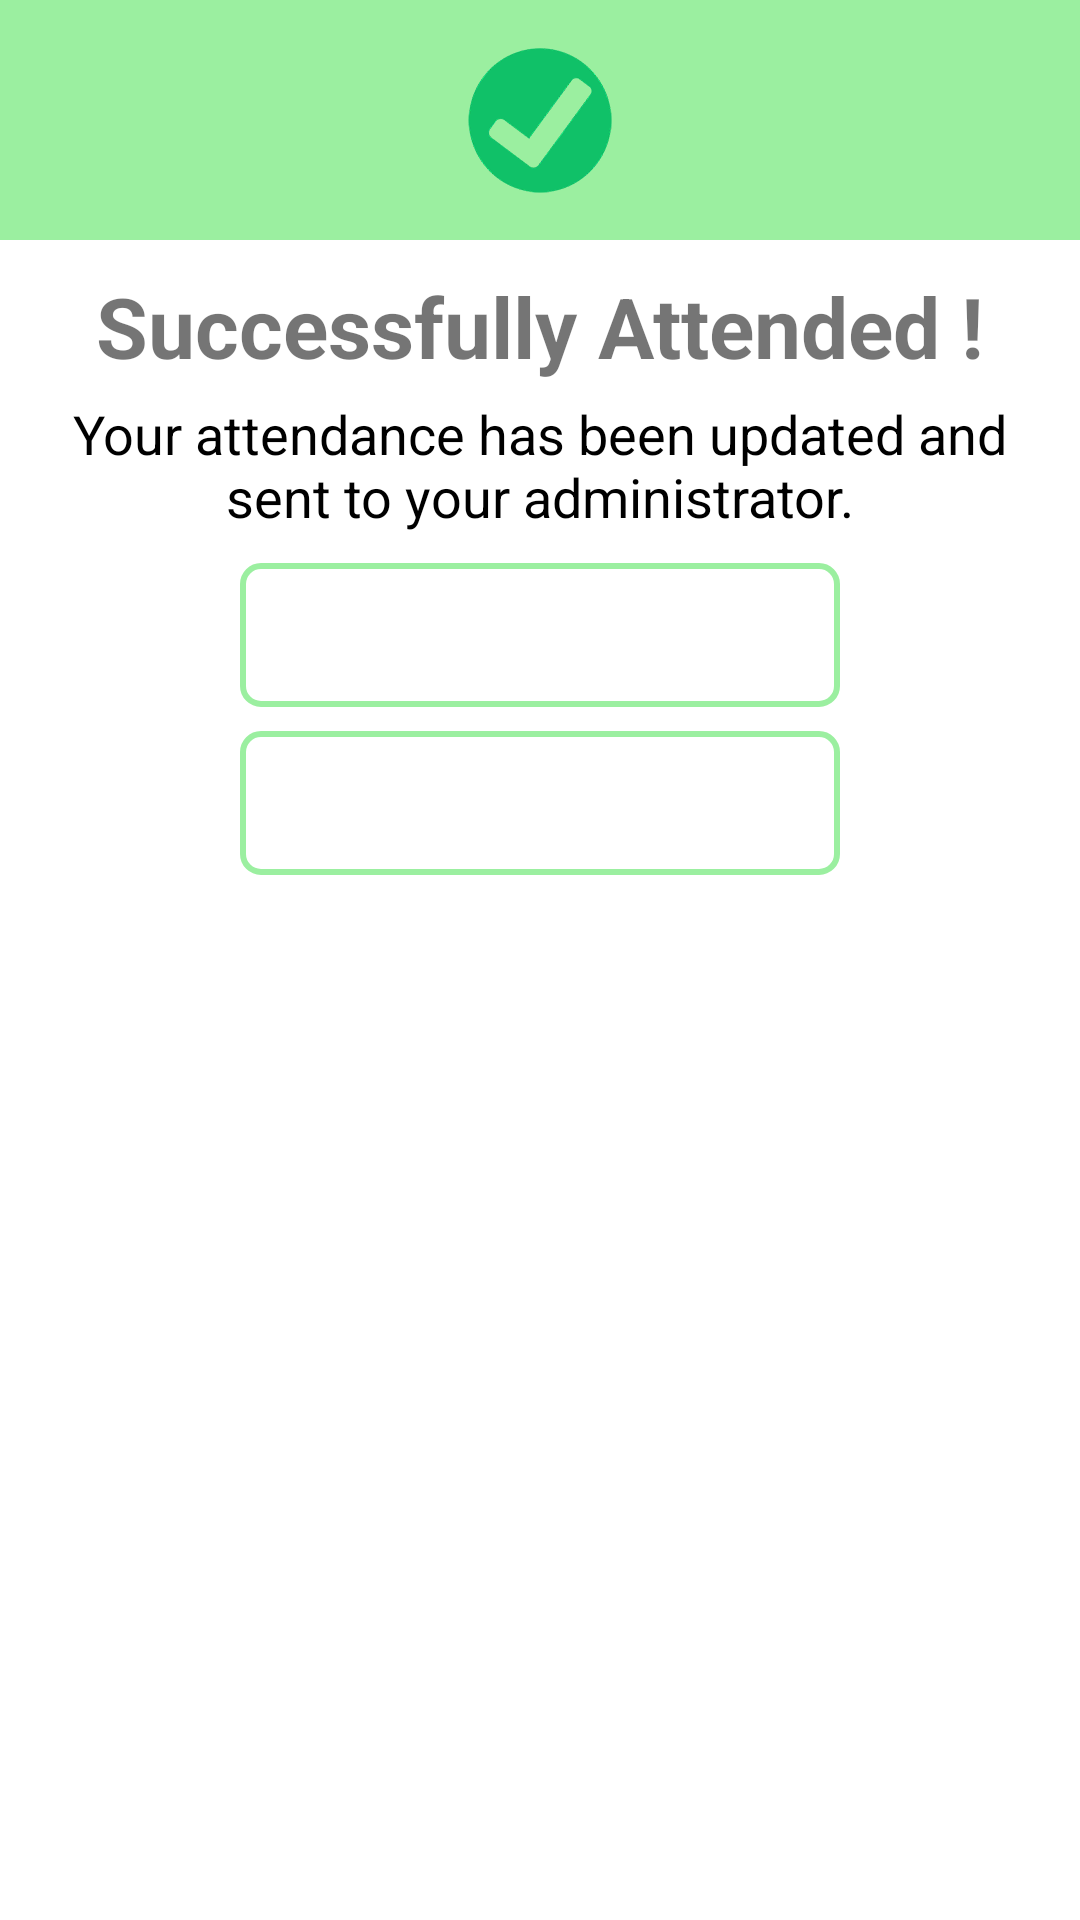

Screen size 1080w x 1920h. Icon name, then its center in pixels as (x=x, y=y):
tick: (x=540, y=120)
